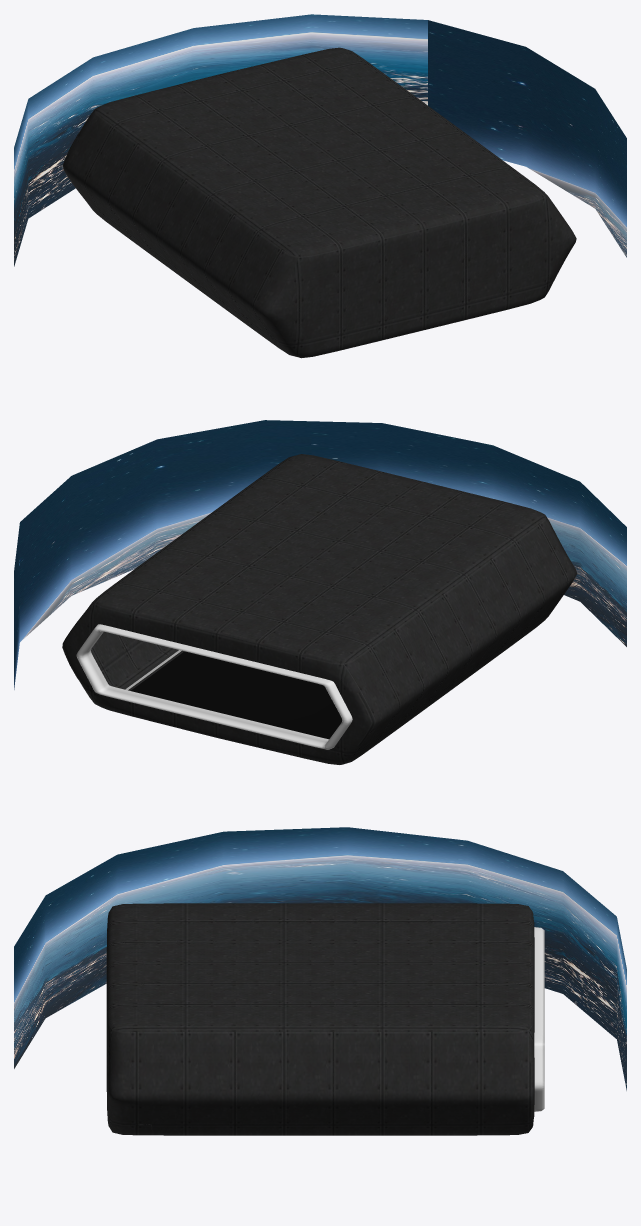
File: ship.glb
3 renders of one model, top to bottom at view 1: azimuth 30°, elevation 25°; view 2: azimuth 150°, elevation 25°; view 3: azimuth 270°, elevation 25°, orthographic. The views are drawn at different scales.
Parts seen in each view (by area): view 1: Sci-Fi Hanger, Background; view 2: Sci-Fi Hanger, Background; view 3: Sci-Fi Hanger, Background.
Part boxes in pixels (x1,y1,x2,y2): Sci-Fi Hanger: [63, 47, 576, 358]; Background: [14, 14, 626, 266]; Sci-Fi Hanger: [62, 454, 577, 764]; Background: [14, 420, 626, 689]; Sci-Fi Hanger: [106, 903, 544, 1135]; Background: [14, 827, 626, 1090].
Bounding box in the file's own units: 40.92 × 8.96 × 40.51.
8 materials, 3 textured.
